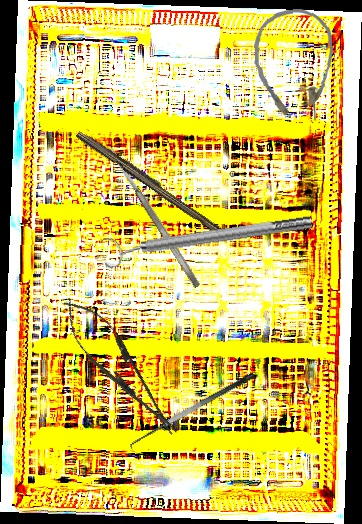Cannula: (252, 7, 337, 125)
Fixation Ring: (100, 206, 315, 270)
Needle Holder: (50, 288, 190, 447)
Scalpel Handle: (73, 127, 227, 237)
Spatula Surgical: (107, 145, 202, 290), (125, 371, 262, 456)
